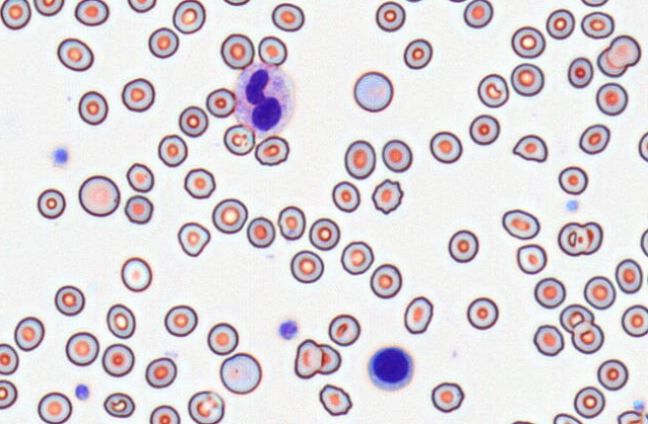GRAN: (233, 58, 296, 139)
LYM: (367, 343, 418, 393)
PLT: (279, 315, 299, 341), (50, 146, 71, 169), (73, 383, 91, 404), (565, 198, 582, 212), (631, 399, 646, 412)
RBC: (219, 352, 262, 394), (78, 174, 120, 217), (353, 70, 393, 112), (557, 220, 603, 256), (211, 198, 247, 234), (56, 37, 94, 71), (344, 139, 376, 179), (187, 390, 224, 424), (501, 208, 540, 240), (220, 33, 254, 69), (606, 34, 641, 68), (340, 240, 374, 275), (289, 249, 324, 283), (65, 331, 99, 366), (121, 77, 155, 112), (403, 295, 433, 334), (510, 62, 544, 96), (583, 275, 616, 310), (369, 263, 402, 298), (120, 256, 152, 292), (371, 178, 403, 214), (571, 320, 604, 354), (164, 304, 198, 337), (318, 383, 352, 416), (172, 0, 205, 34), (101, 343, 134, 377), (511, 25, 545, 58), (595, 82, 628, 116), (294, 338, 322, 378), (37, 391, 72, 423), (477, 73, 509, 108), (327, 313, 360, 346), (429, 130, 462, 163), (466, 296, 498, 330), (430, 381, 464, 413), (13, 316, 44, 351), (254, 135, 289, 166), (77, 90, 108, 125), (308, 217, 340, 250), (573, 385, 605, 418), (533, 277, 566, 309), (206, 322, 238, 355), (596, 358, 628, 391), (144, 356, 177, 388), (447, 229, 478, 263), (559, 303, 594, 333), (106, 303, 135, 339), (223, 123, 255, 155), (183, 167, 215, 199), (381, 139, 412, 172), (277, 205, 306, 240), (615, 258, 643, 294), (596, 46, 628, 77), (533, 324, 564, 356), (54, 284, 85, 316), (578, 123, 610, 154), (157, 134, 187, 167), (205, 87, 236, 118), (148, 27, 179, 58), (516, 243, 547, 274), (469, 114, 500, 145), (178, 105, 208, 137), (375, 0, 405, 32), (271, 2, 304, 31), (580, 11, 614, 39), (257, 35, 287, 66), (545, 8, 575, 39), (331, 180, 360, 212), (246, 216, 275, 248), (74, 0, 109, 26), (558, 165, 588, 195), (0, 0, 31, 29), (36, 188, 65, 219), (403, 38, 432, 69), (621, 304, 648, 337), (124, 194, 153, 224), (126, 162, 154, 192), (463, 0, 493, 28), (103, 392, 135, 418), (567, 56, 593, 88), (317, 343, 341, 374), (0, 342, 19, 375), (149, 404, 180, 424), (0, 379, 17, 409), (33, 0, 64, 16), (616, 409, 644, 424), (127, 0, 156, 13), (552, 412, 583, 424), (638, 131, 648, 162), (640, 227, 648, 257), (580, 0, 609, 7), (222, 0, 250, 6), (508, 419, 537, 424), (445, 0, 468, 3), (404, 0, 424, 3)
Schistocyte: (177, 221, 212, 260), (512, 132, 549, 163)
